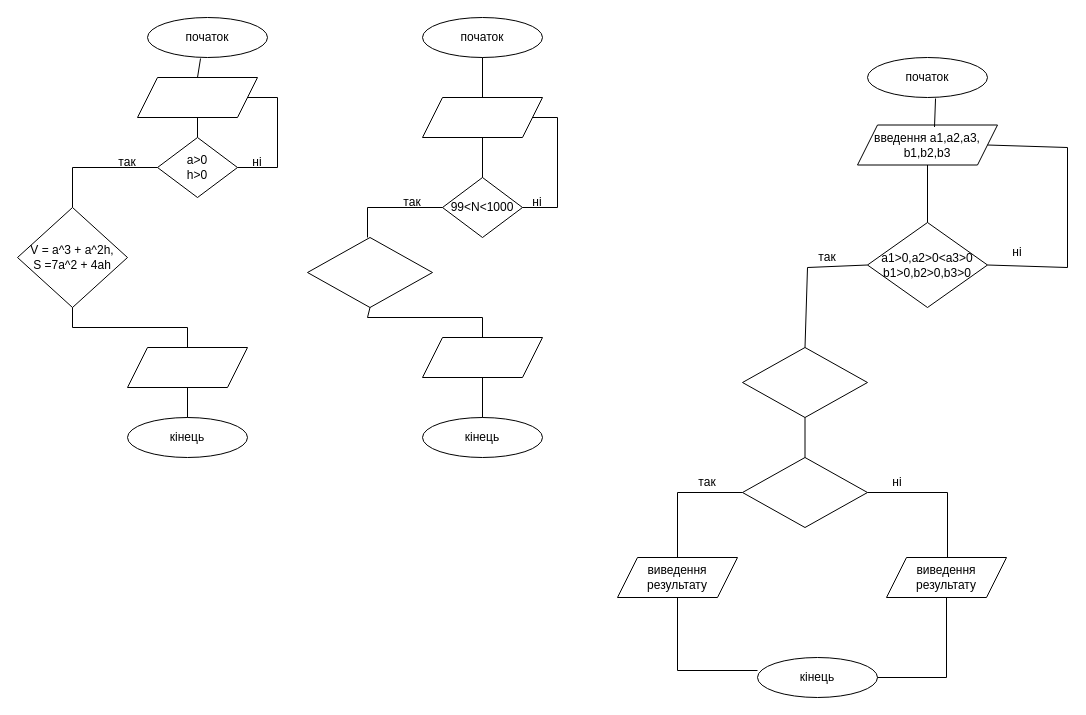
This 1086x715 diagram has some shape labels left out. Each missing label, with the box of its shape:
M = N[0]kN[1]kN[2]: (306, 236, 432, 308)
V(v)=a1*a2*a3, V(k)=b1*b2*b3: (742, 346, 868, 418)
V(v)>V(k): (742, 456, 868, 528)
введення N: (422, 96, 542, 138)
введення а,h: (136, 76, 258, 118)
виведення M: (422, 336, 542, 378)
виведення V,S: (126, 346, 248, 388)
